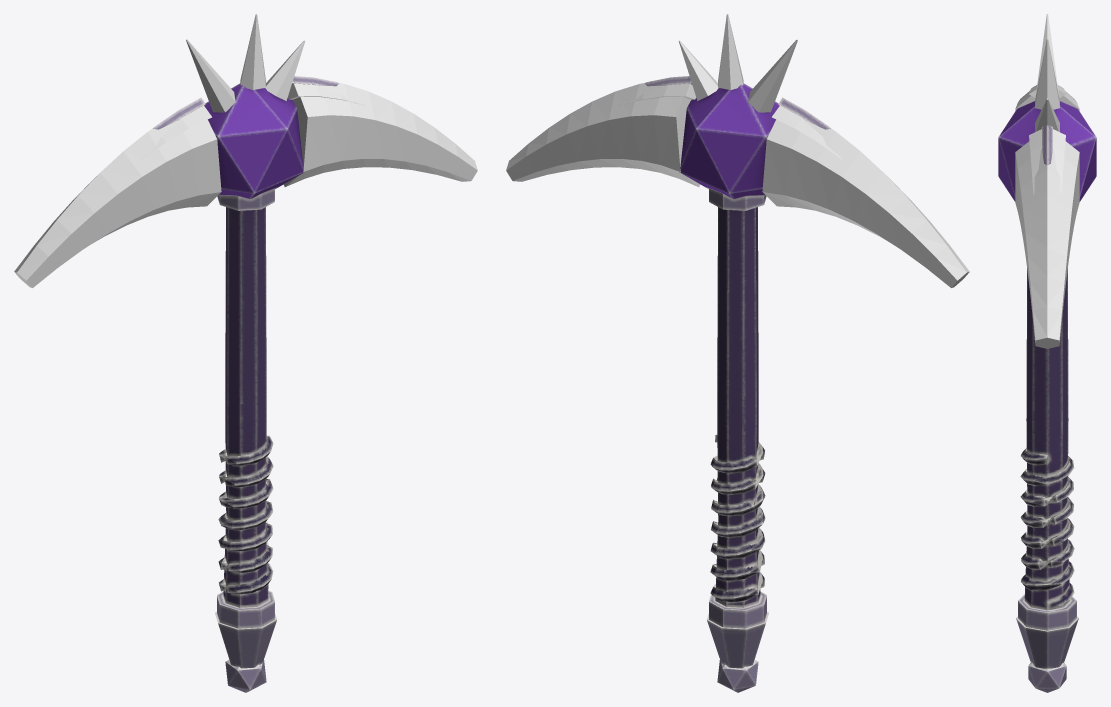
File: AmethystPickaxe.glb
3 renders of one model, left to right at view 1: azimuth 30°, elevation 25°; view 2: azimuth 150°, elevation 25°; view 3: azimuth 270°, elevation 25°, orthographic. The views are drawn at different scales.
Visible parts, largest first — view 1: Body__Tex, Head__Crystal, Head__Accent; view 2: Body__Tex, Head__Crystal, Head__Accent; view 3: Body__Tex, Head__Crystal, Head__Accent.
Part boxes in pixels (x1,y1,x2,y2): Body__Tex: (152, 76, 339, 692); Head__Crystal: (14, 14, 477, 287); Head__Accent: (141, 83, 364, 159); Body__Tex: (644, 76, 831, 692); Head__Crystal: (506, 14, 969, 287); Head__Accent: (619, 83, 842, 159); Body__Tex: (998, 101, 1096, 692); Head__Crystal: (1015, 14, 1079, 348); Head__Accent: (1029, 85, 1065, 194).
Bounding box in the file's own units: 3.19 × 4.5 × 0.6074.
1 material, 1 textured.
